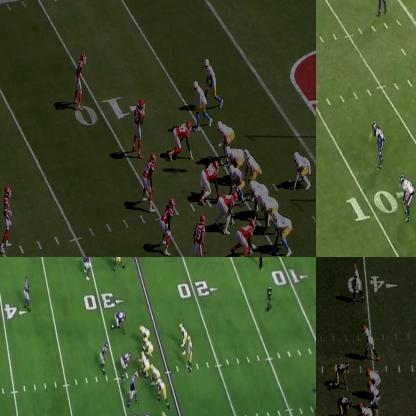CENTER: (228, 164, 245, 198), (136, 352, 150, 378), (357, 401, 370, 415)
DB: (372, 118, 388, 170), (399, 175, 415, 220), (4, 186, 12, 254), (75, 54, 85, 107), (197, 218, 208, 256), (83, 257, 93, 282), (24, 278, 30, 310), (376, 0, 386, 14)
LB: (132, 102, 144, 158), (144, 155, 156, 208), (164, 202, 176, 253), (100, 341, 109, 369)
QB: (244, 151, 260, 179), (186, 337, 194, 371)
SKILL: (193, 78, 211, 124), (206, 58, 222, 100), (293, 151, 309, 188), (365, 325, 377, 359), (353, 264, 364, 298), (111, 257, 124, 270), (180, 319, 186, 345)
